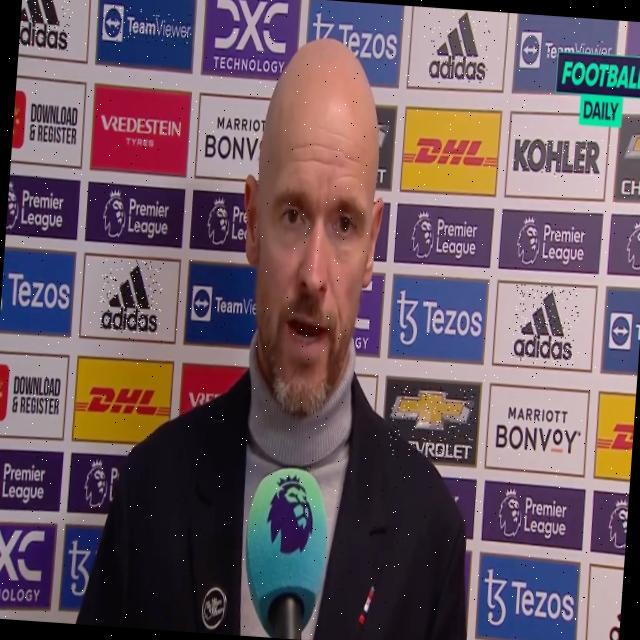Adidas: (511, 284, 580, 366), (98, 258, 164, 337), (426, 8, 491, 86), (18, 0, 73, 50)
Chevrolet: (387, 384, 476, 462)
Kohler: (511, 135, 601, 178)
TeamViewer: (520, 31, 614, 73), (101, 3, 193, 45)
